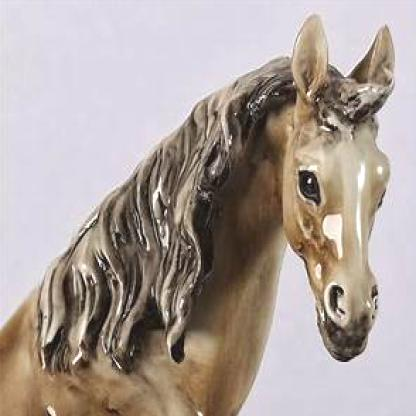horse: (0, 11, 398, 414)
